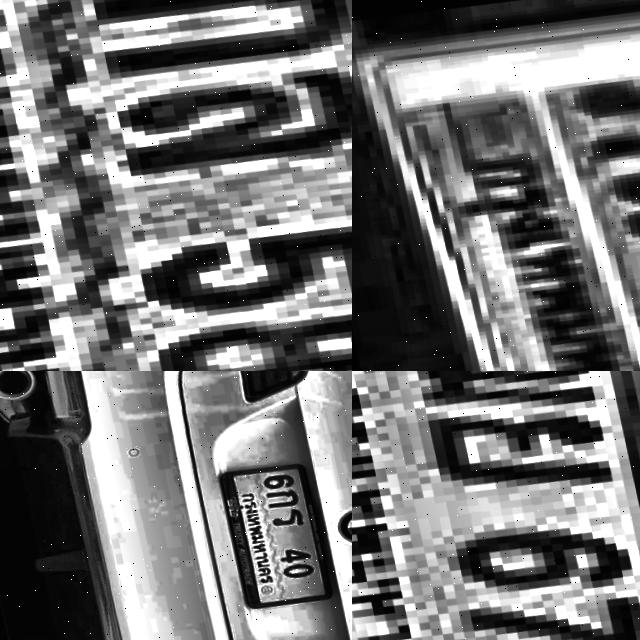license-plate: (0, 0, 352, 371), (352, 0, 640, 371), (352, 371, 640, 640), (213, 454, 334, 609)
